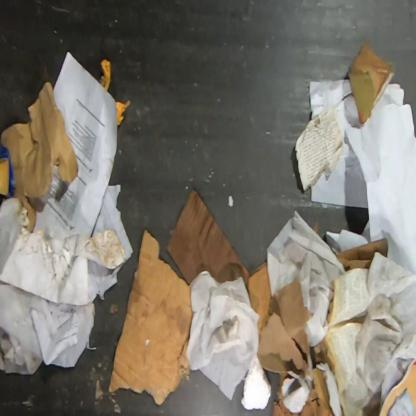cardboard: (0, 81, 127, 307), (247, 258, 344, 415), (108, 230, 194, 405), (166, 188, 251, 294), (347, 38, 396, 126), (335, 237, 389, 273), (0, 141, 17, 199), (312, 222, 320, 234)
